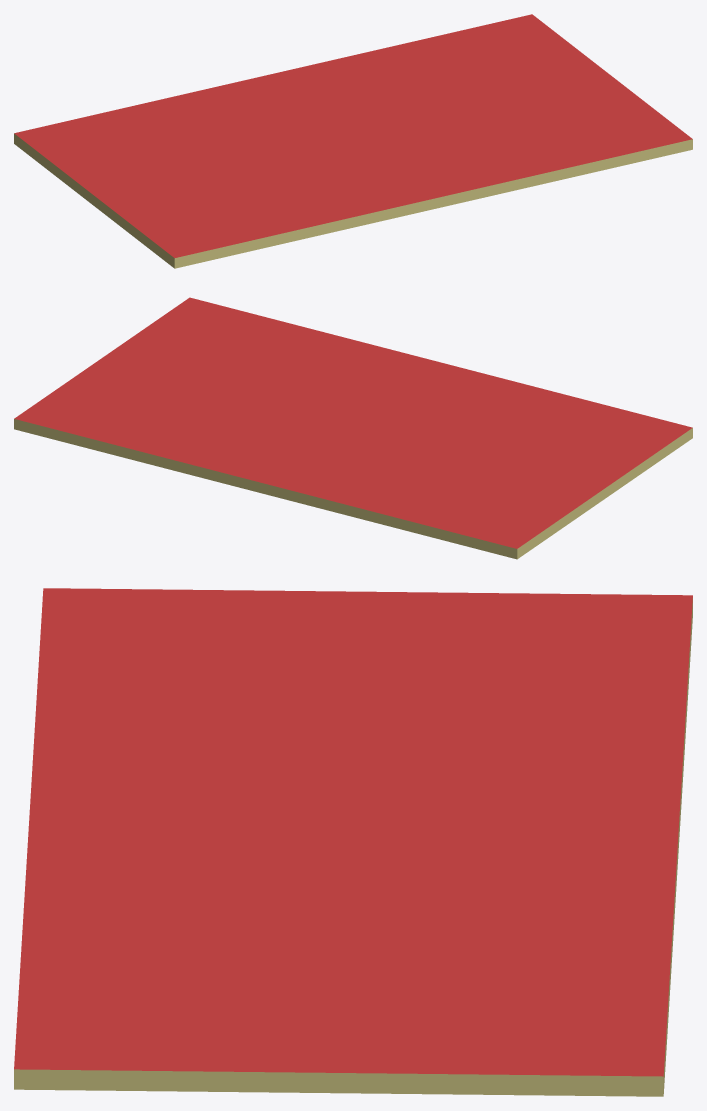
3 renders of one model, top to bottom at view 1: azimuth 30°, elevation 25°; view 2: azimuth 150°, elevation 25°; view 3: azimuth 270°, elevation 25°, orthographic. The views are drawn at different scales.
Size of the model in its own units: 5.16 by 3.03 by 0.1.
